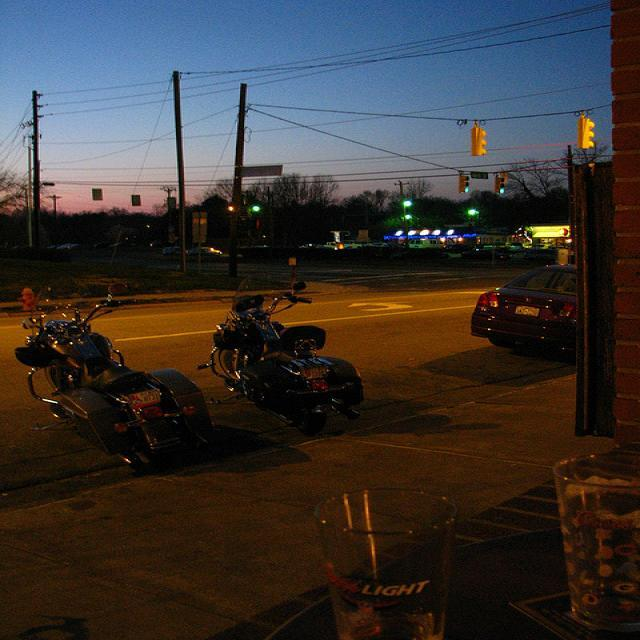fire_hydrant: (18, 286, 38, 310)
